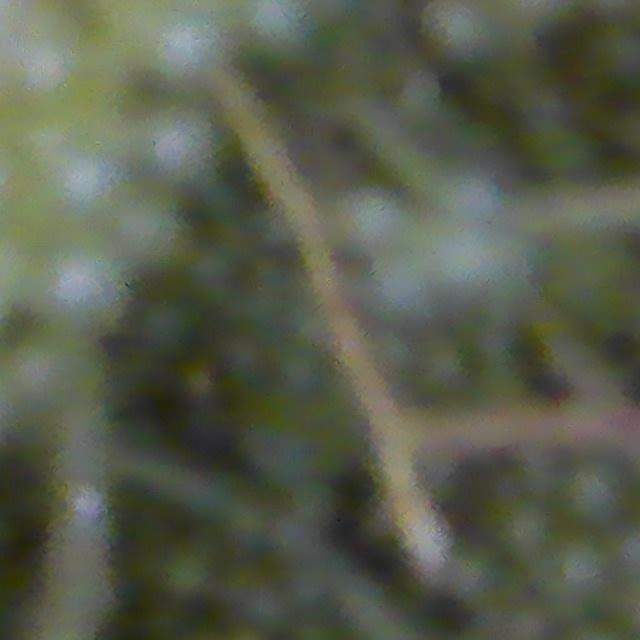SeaGrape: (30, 253, 131, 330), (1, 4, 93, 83), (138, 105, 215, 183), (46, 144, 122, 219), (148, 8, 223, 83), (545, 535, 615, 613), (106, 205, 189, 267), (554, 468, 624, 539), (231, 0, 314, 59), (1, 338, 68, 409), (490, 499, 556, 564), (421, 0, 492, 56), (587, 21, 640, 90)
